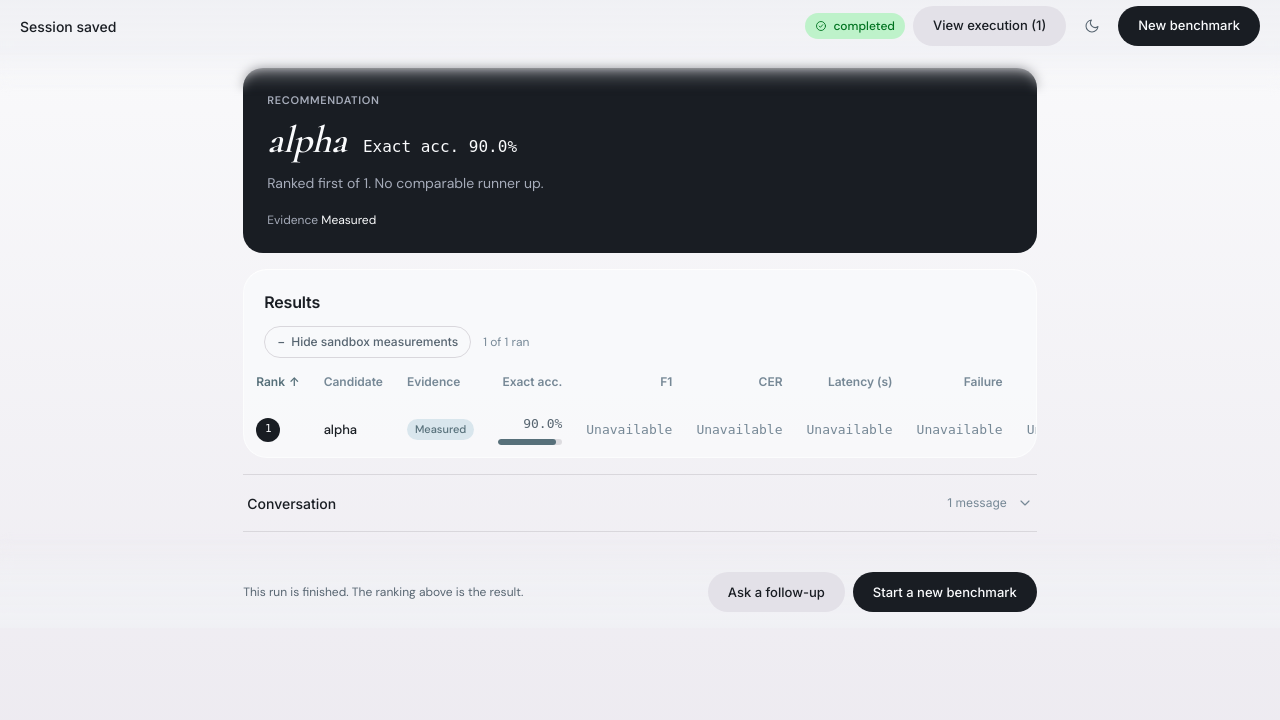
Test: benchmark stream lifecycle › restores saved sandbox output without opening a completed run panel
Expected: the element "Sandbox execution" is not shown
Click the button "View execution (1)". click: (990, 26)
box: [913,6,1066,46]
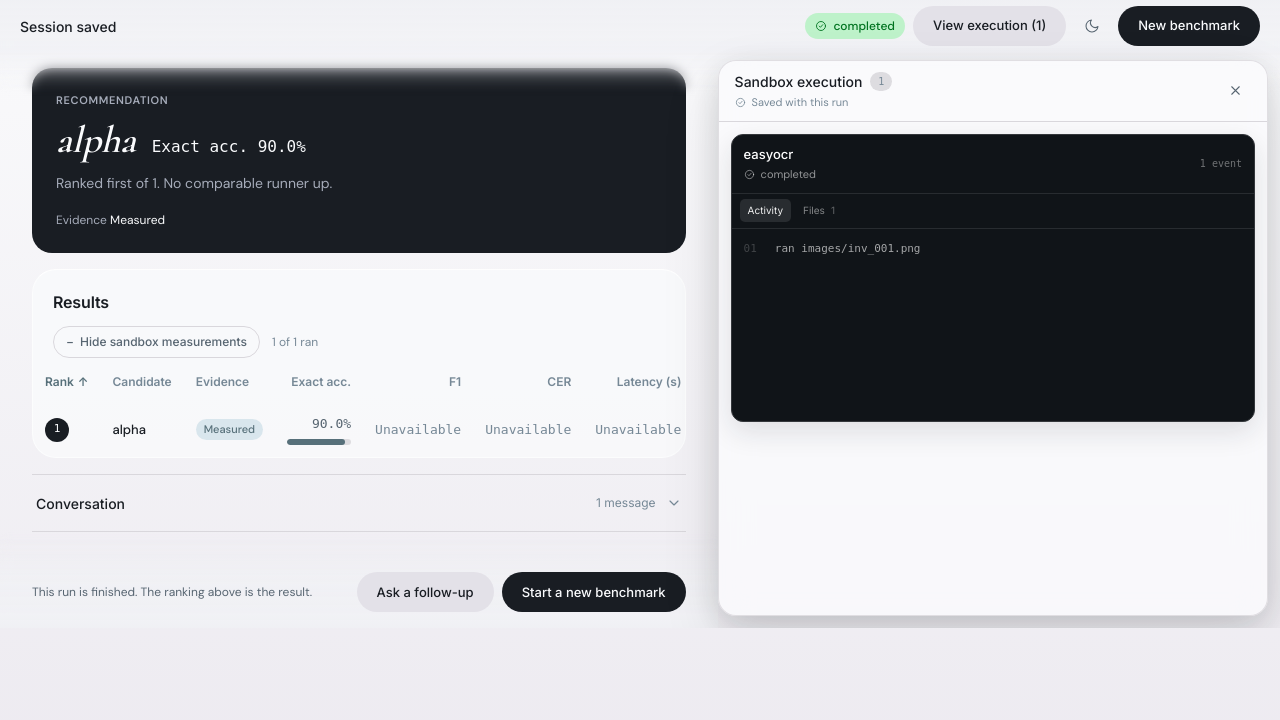
Expected: the text "ran images/inv_001.png" is shown, [775,242,920,255]
Click the tab "Files 1". click: (819, 211)
box: [795,199,843,222]
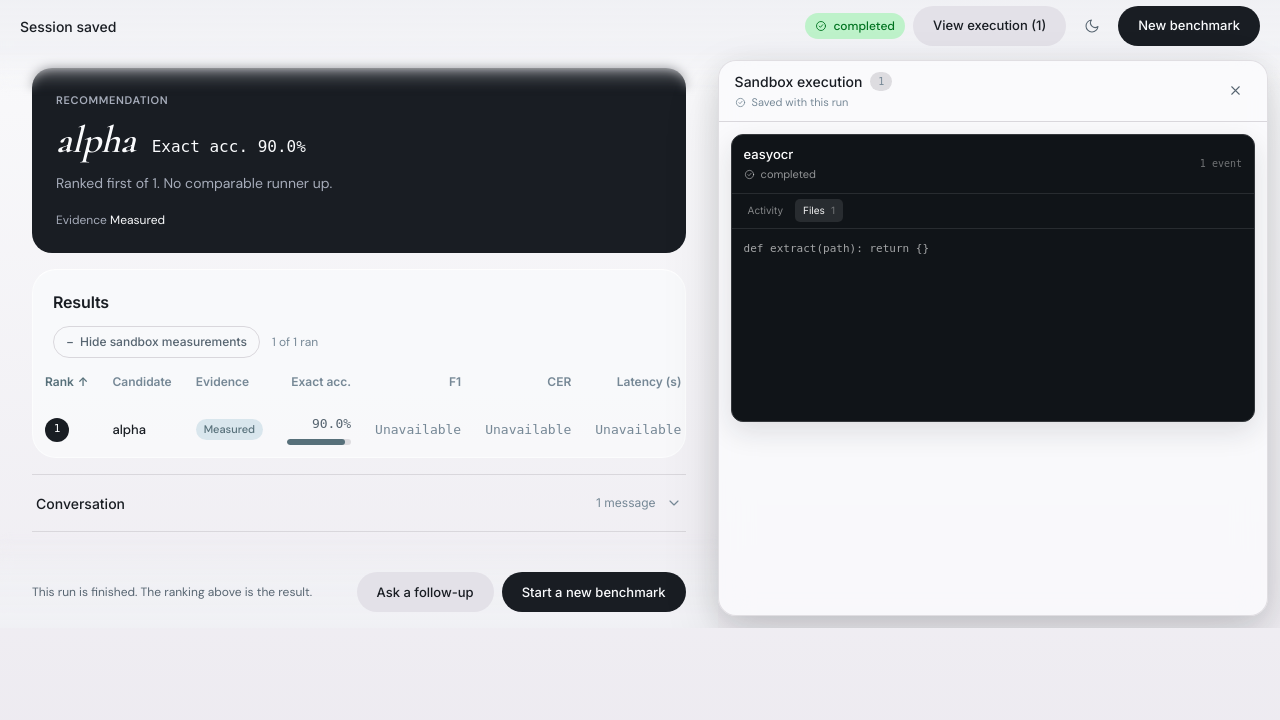
Expected: the text "def extract(path): return {}" is shown, [744,242,929,255]
